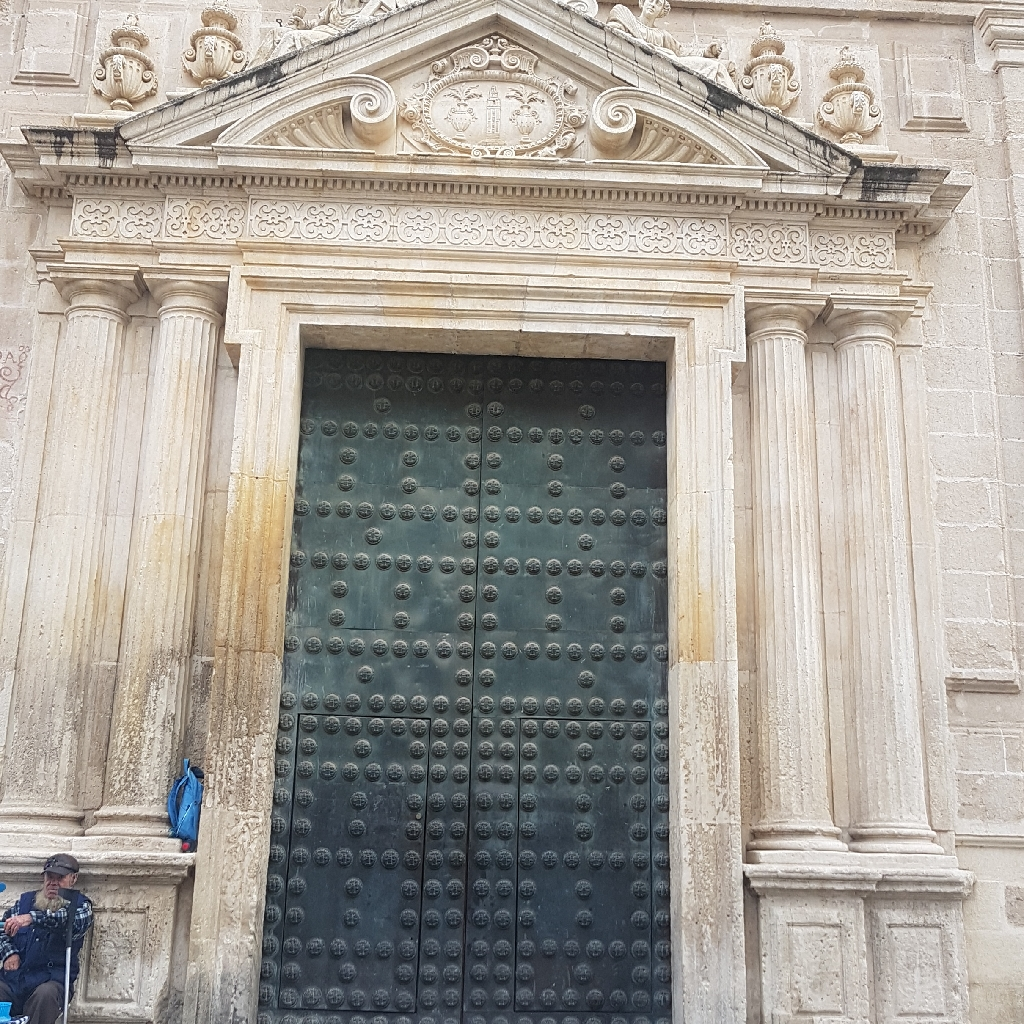fronton: (116, 5, 867, 200)
fronton-partido: (211, 73, 770, 189)
vano-adintelado: (203, 262, 748, 1024)
